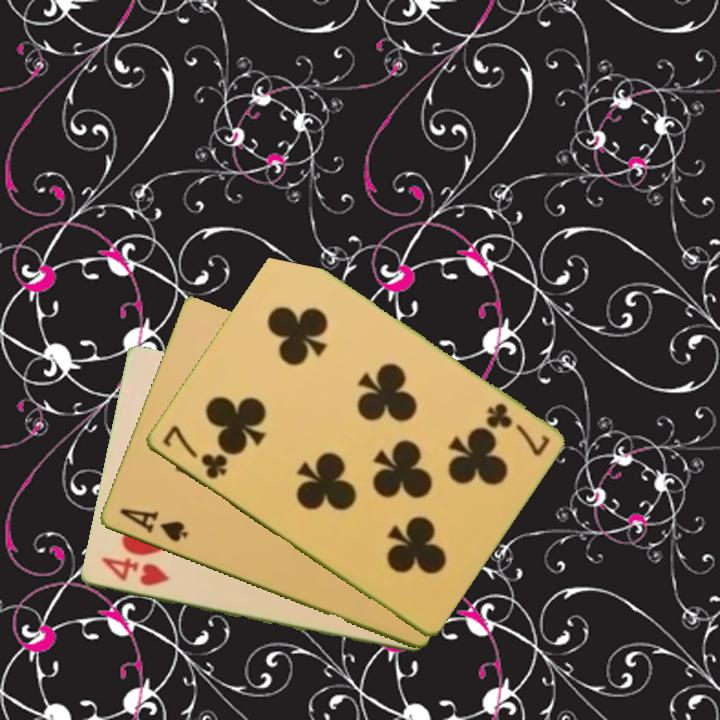4h: (97, 554, 172, 590)
7c: (158, 422, 230, 483), (481, 399, 552, 459)
As: (115, 505, 191, 546)
